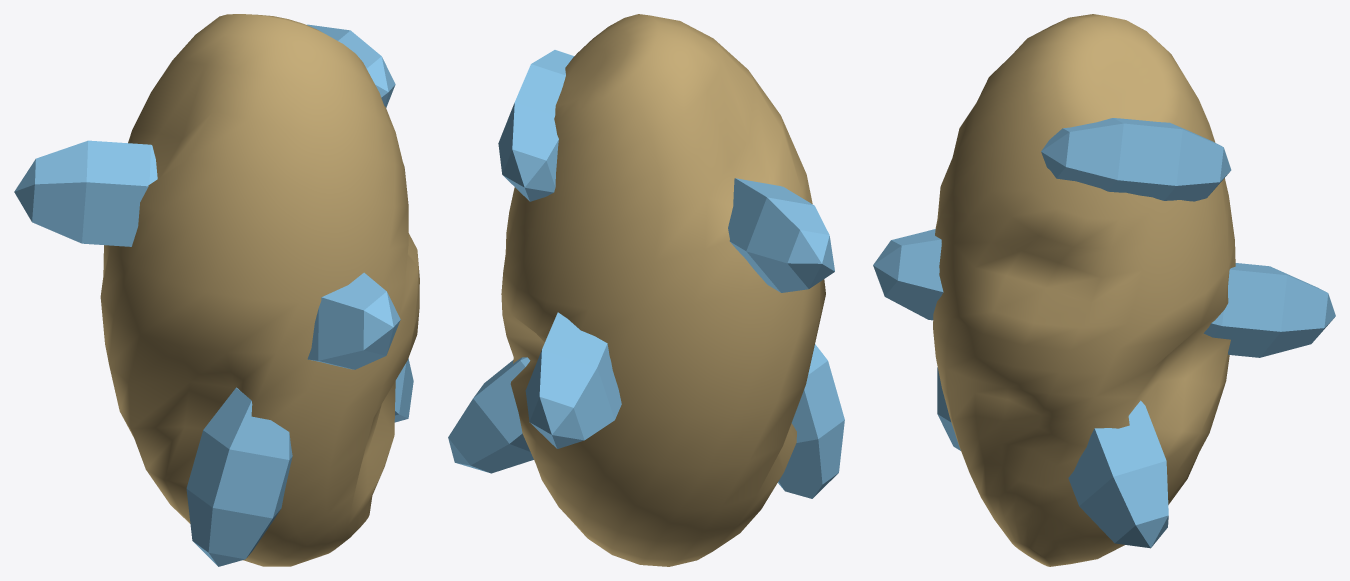
File: Blighted_Potato_Stage_1.fbx
3 views of the same model, side by side, from view 1: azimuth 30°, elevation 25°; view 2: azimuth 150°, elevation 25°; view 3: azimuth 270°, elevation 25° (orthographic). The views are drawn at different scales.
Parts seen in each view (by area): view 1: Blighted_Potato_Stage_1; view 2: Blighted_Potato_Stage_1; view 3: Blighted_Potato_Stage_1.
Boxes of the visible parts, box(x1,y1,x2,y2) form: Blighted_Potato_Stage_1: box(14, 14, 419, 566); Blighted_Potato_Stage_1: box(448, 14, 844, 566); Blighted_Potato_Stage_1: box(873, 14, 1335, 566).
Bounding box in the file's own units: 0.2301 × 0.3102 × 0.2444.
